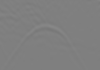hyperbola: (12, 22, 84, 64)
